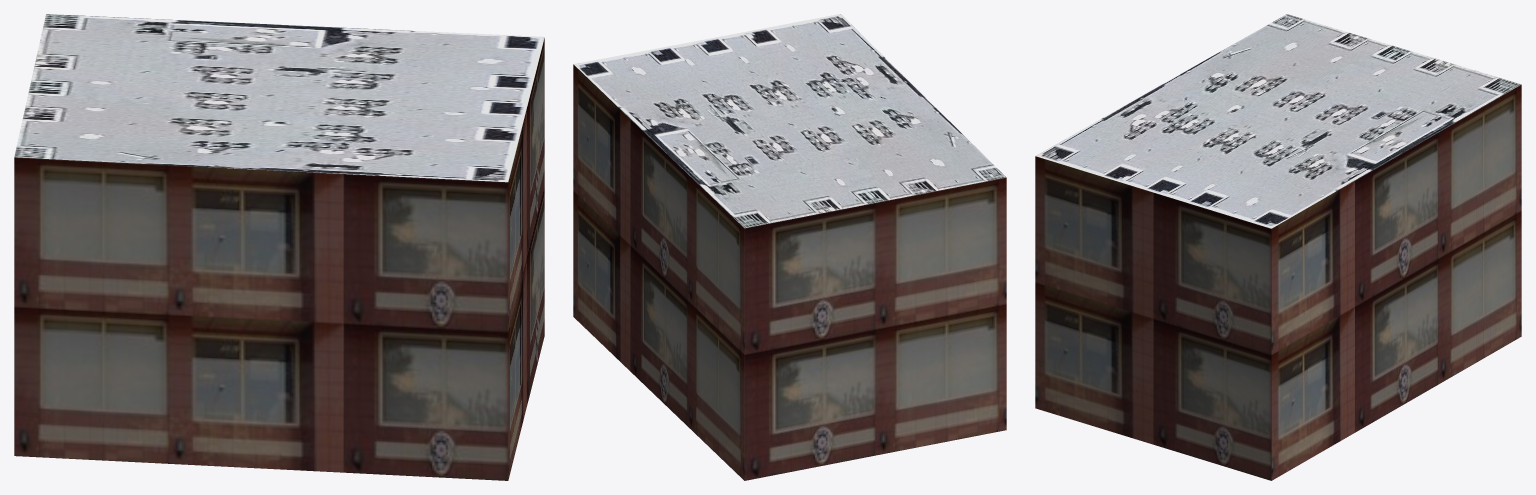
File: ResTex__3229.fbx
The picture shows the model from 3 angles, left to right: view 1: azimuth 30°, elevation 25°; view 2: azimuth 150°, elevation 25°; view 3: azimuth 270°, elevation 25°; orthographic projection. The views are drawn at different scales.
Parts seen in each view (by area): view 1: CityEngineMaterial_13_m, CityEngineMaterial_m; view 2: CityEngineMaterial_13_m, CityEngineMaterial_m; view 3: CityEngineMaterial_13_m, CityEngineMaterial_m.
Part boxes in pixels (x1,y1,x2,y2): CityEngineMaterial_13_m: (14, 38, 544, 480); CityEngineMaterial_m: (14, 14, 544, 182); CityEngineMaterial_13_m: (573, 64, 1006, 480); CityEngineMaterial_m: (573, 14, 1006, 228); CityEngineMaterial_13_m: (1035, 84, 1521, 480); CityEngineMaterial_m: (1035, 14, 1521, 228).
Size of the model in its own units: 10.96 by 6 by 10.49.
Materials: 2 (2 with a texture image).
